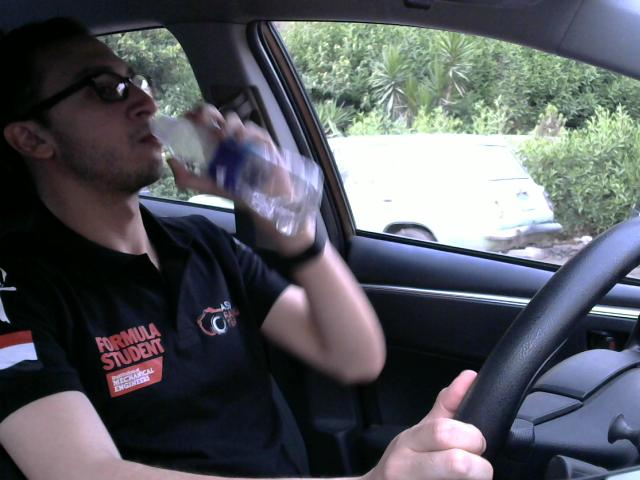Drinking: (146, 108, 326, 236)
